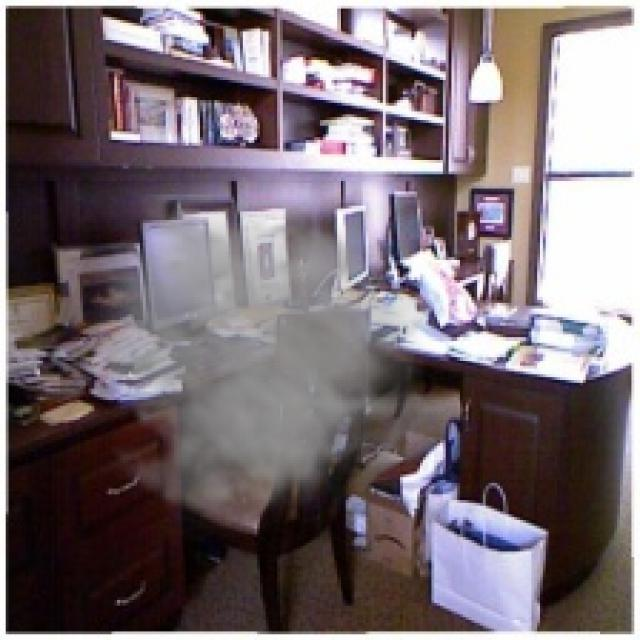Smoke: (77, 194, 437, 543)
